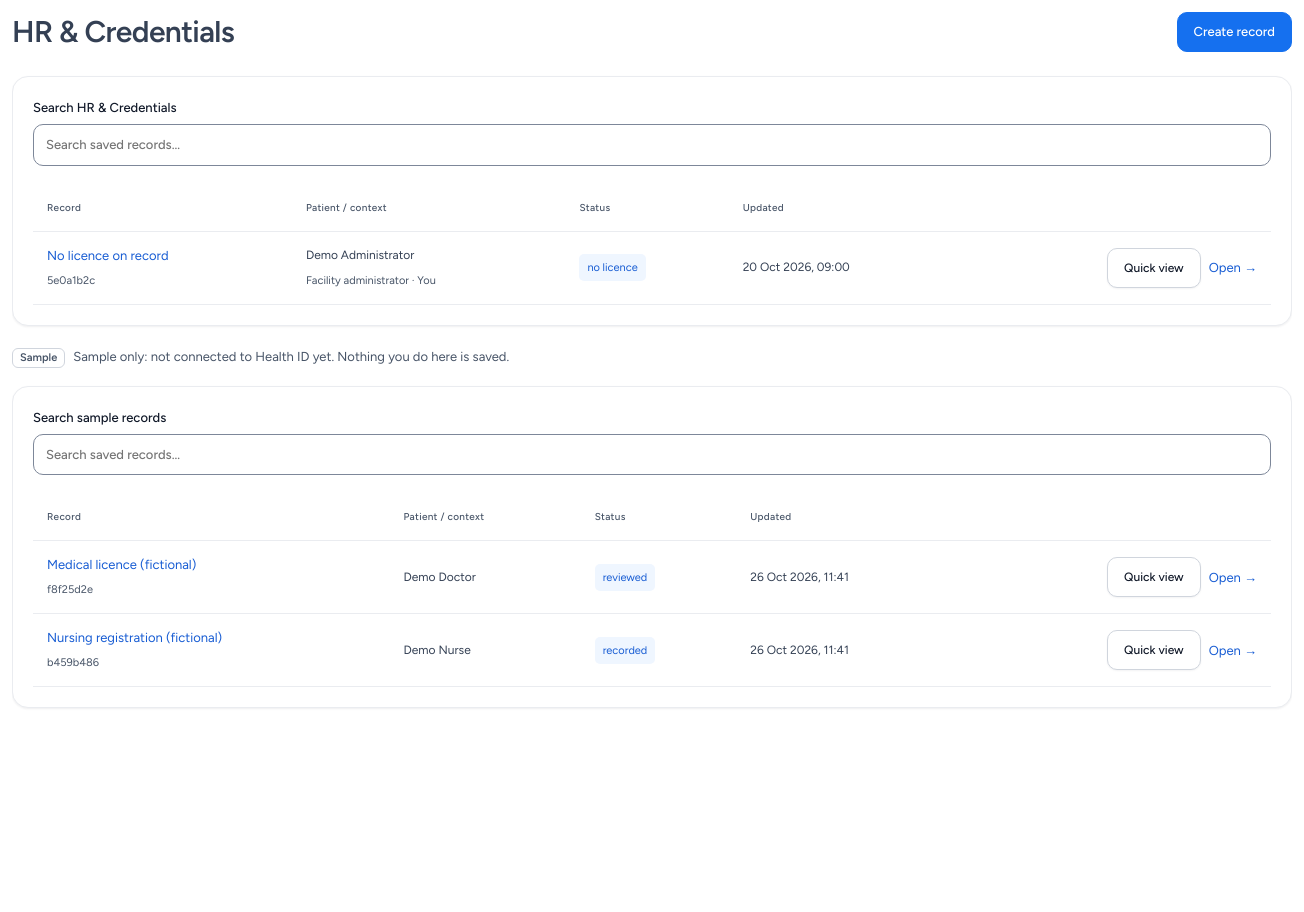
Test: the sample list › searches the sample rows in the page
Check: the button "No licence on record" is shown, box [47,244,168,266]
Type "nursing" into the search field labelled "Search sample records".
click(652, 454); type("nursing")  # box [33,434,1271,475]
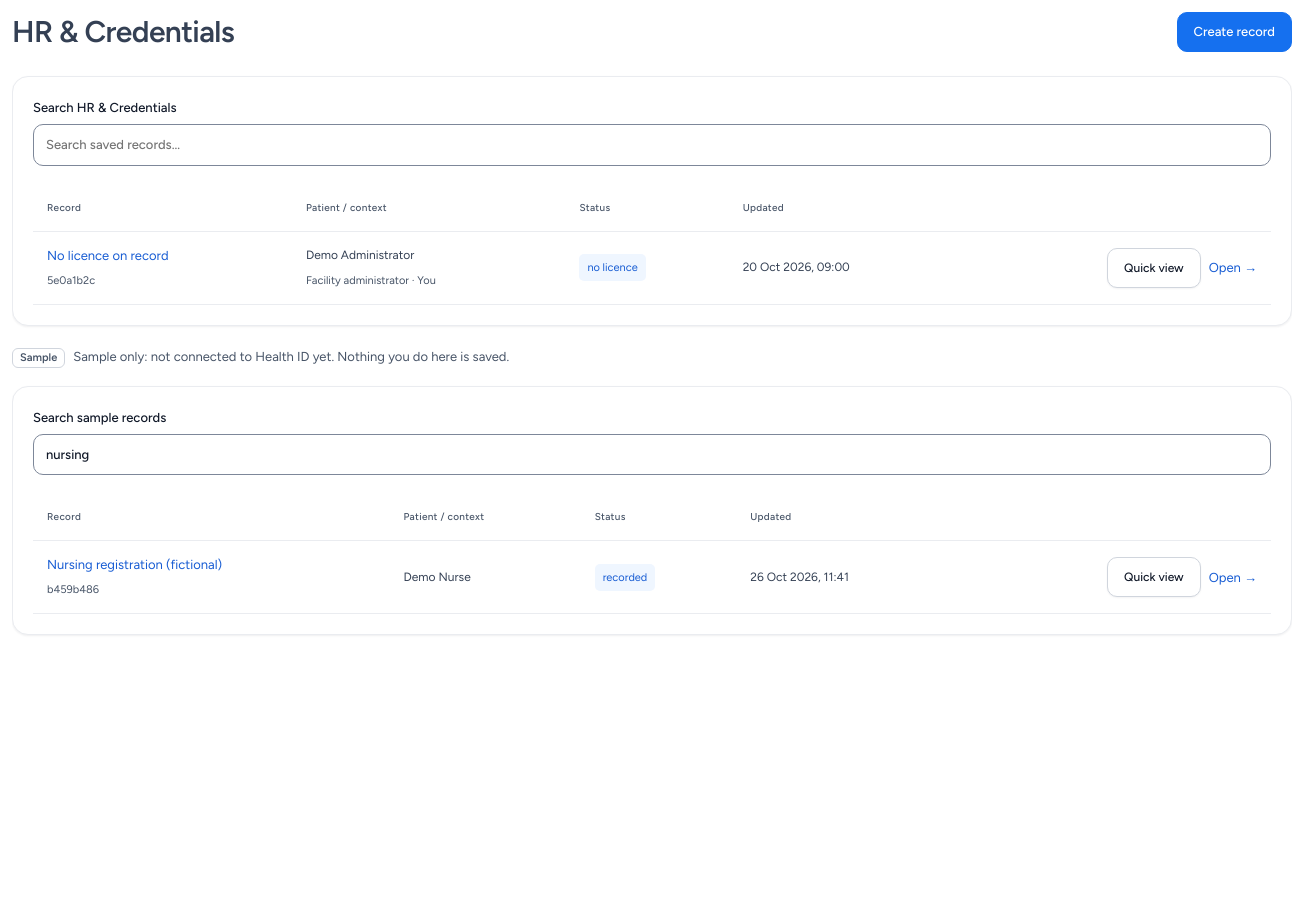
Check: the button "Nursing registration (fictional)" is shown, box [47,554,222,575]
Check: the button "Medical licence (fictional)" is gone
Replace the text in the search field labelled "Search sample records" with "no such credential" at x=652, y=454, box [33,434,1271,475]
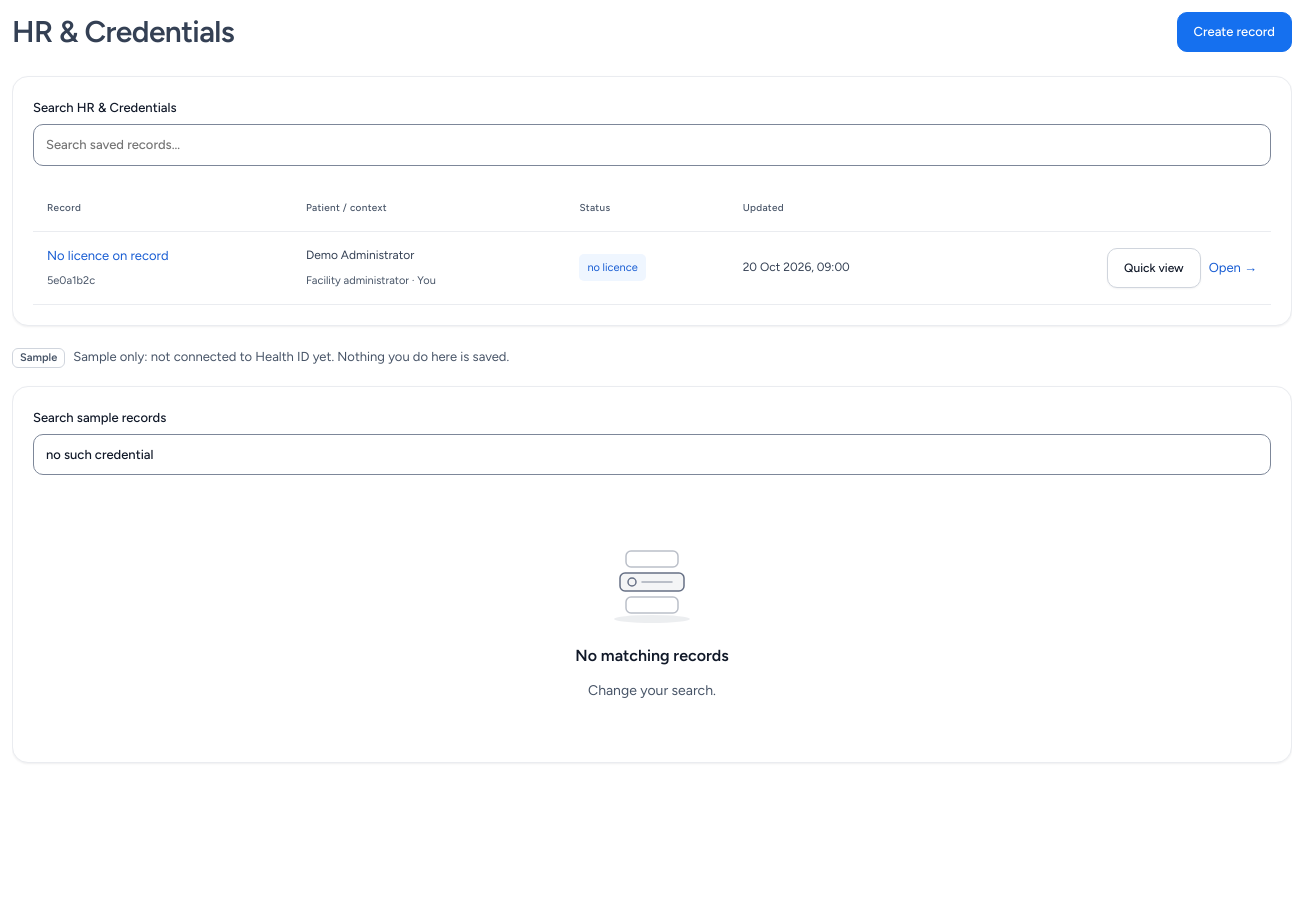
Check: the text "No matching records" is shown, box [575,645,729,666]
Check: the text "Change your search." is shown, box [588,680,716,702]
